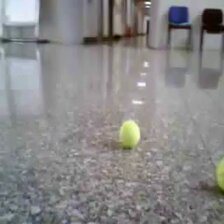tennis: (119, 118, 141, 150)
